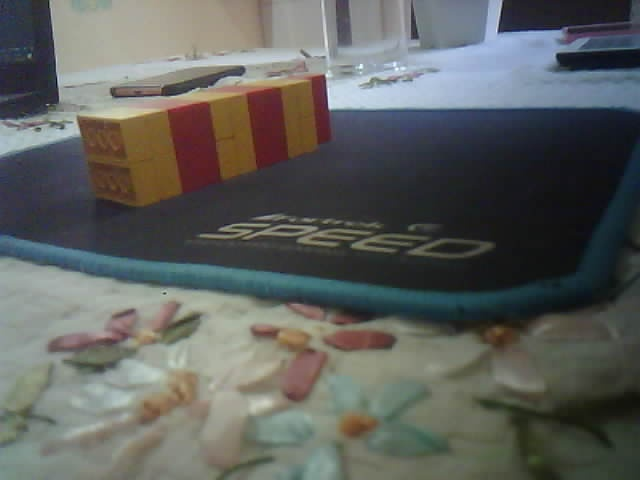lego: (75, 69, 332, 208)
